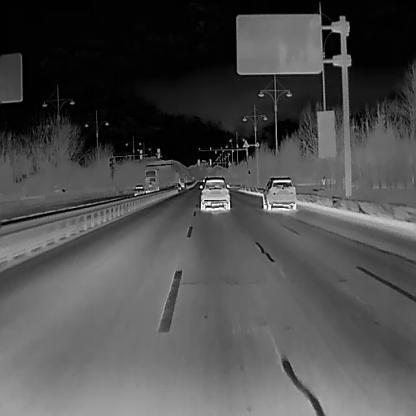car: (260, 175, 296, 211), (198, 175, 230, 212), (142, 167, 157, 195), (133, 184, 143, 198)
